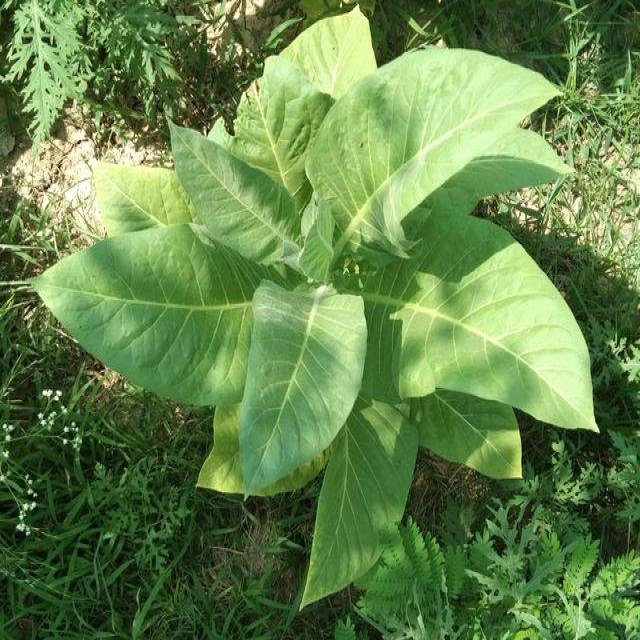crop: (58, 9, 602, 596)
